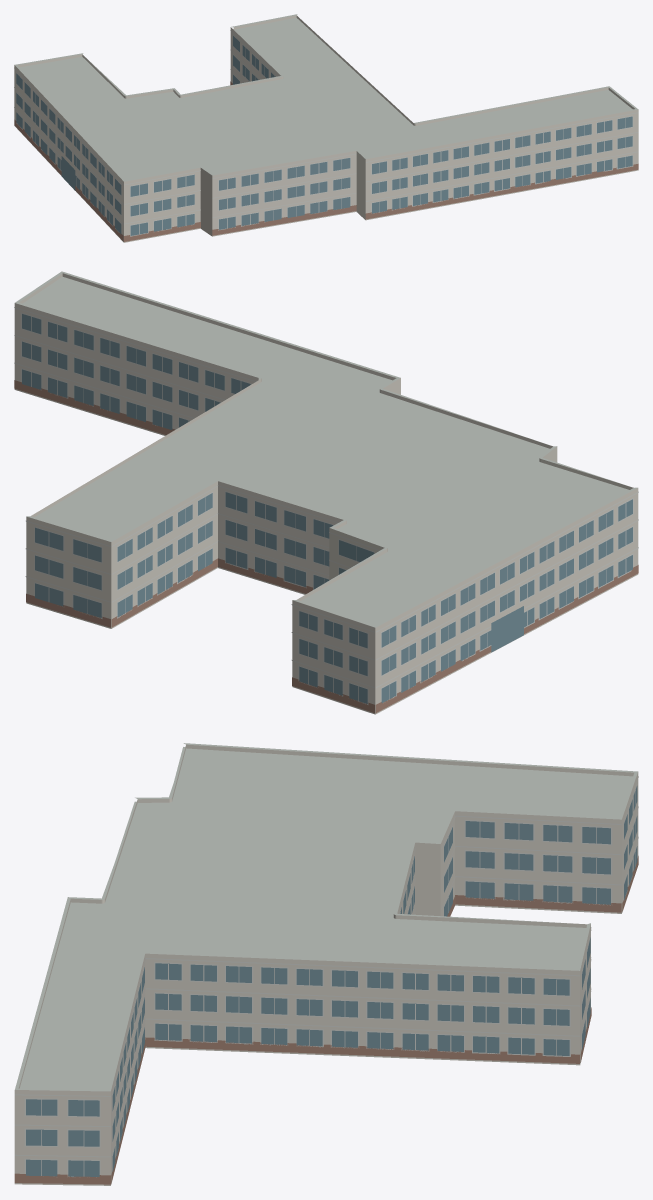
File: public-c0842855-2e06-42a4-b556-21c7ebbcd712.glb
3 views of the same model, one above another, from view 1: azimuth 30°, elevation 25°; view 2: azimuth 150°, elevation 25°; view 3: azimuth 270°, elevation 25° (orthographic). The views are drawn at different scales.
Parts seen in each view (by area): view 1: public-c0842855-2e06-42a4-b556-21c7ebbcd712; view 2: public-c0842855-2e06-42a4-b556-21c7ebbcd712; view 3: public-c0842855-2e06-42a4-b556-21c7ebbcd712.
Part boxes in pixels (<box>): public-c0842855-2e06-42a4-b556-21c7ebbcd712: <box>14,14,638,242</box>; public-c0842855-2e06-42a4-b556-21c7ebbcd712: <box>14,271,638,714</box>; public-c0842855-2e06-42a4-b556-21c7ebbcd712: <box>14,743,638,1185</box>.
Size of the model in its own units: 72.53 by 9.15 by 54.87.
